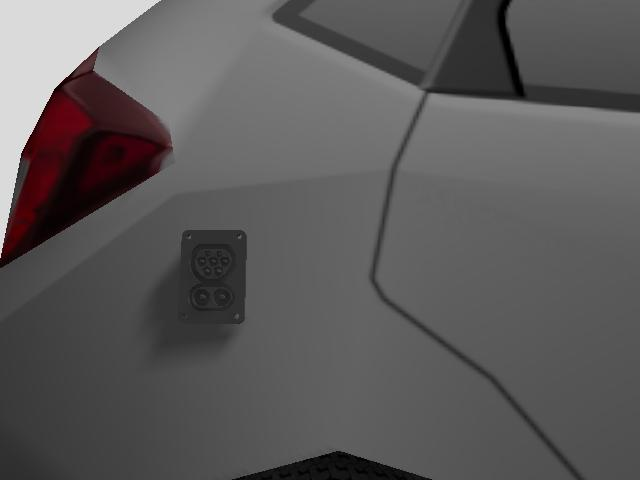EV-socket: (172, 224, 246, 328)
